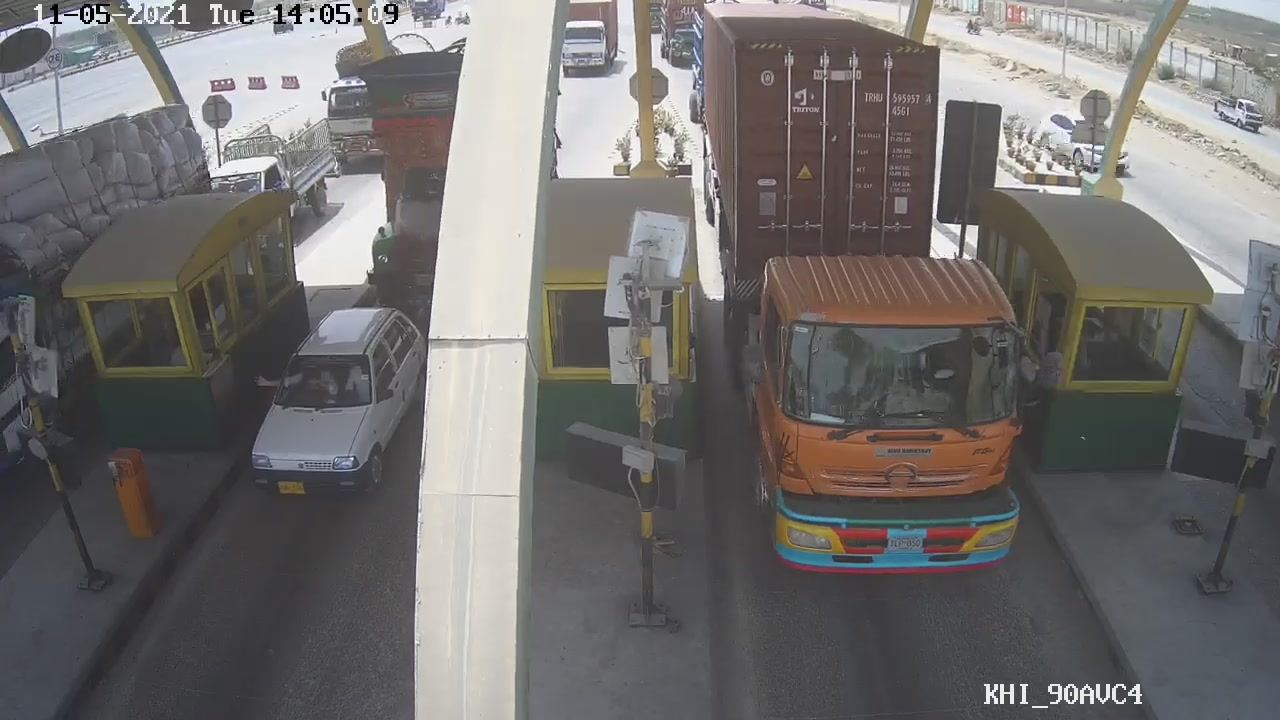F6: (704, 18, 1016, 578)
